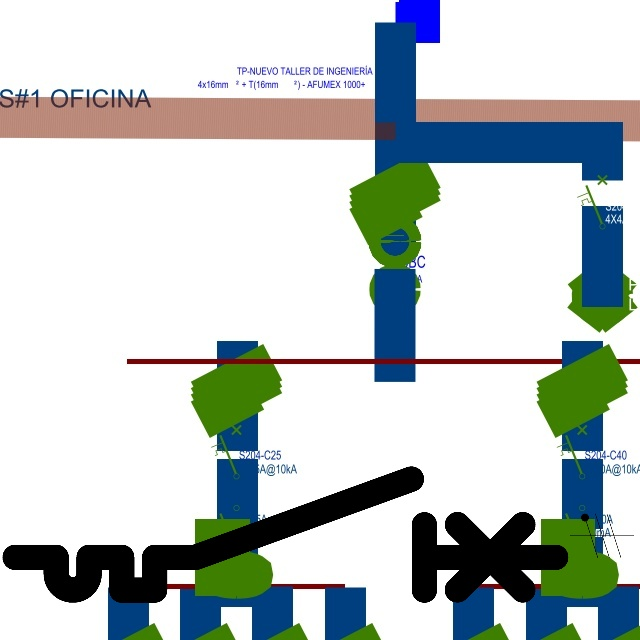interruptor_termomagnetico: (1, 465, 570, 604)
